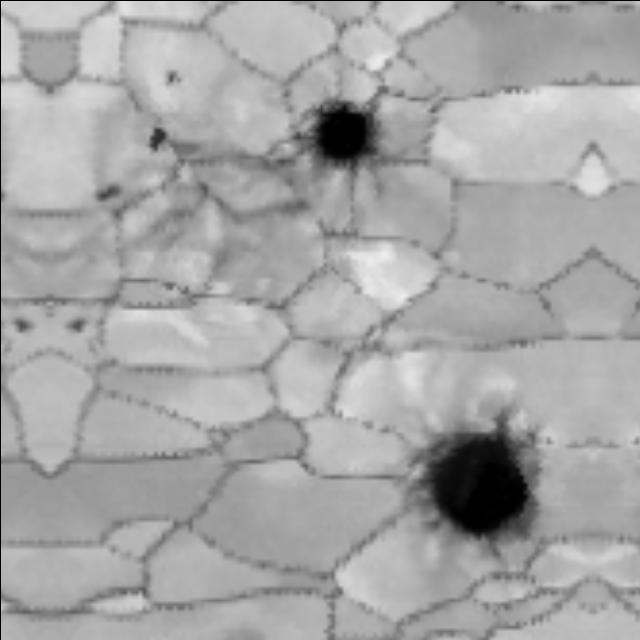good_void: (405, 428, 548, 560), (281, 79, 398, 187), (81, 171, 129, 226), (145, 58, 189, 102), (136, 111, 168, 159), (5, 304, 39, 345), (57, 304, 90, 345), (190, 179, 209, 211)
